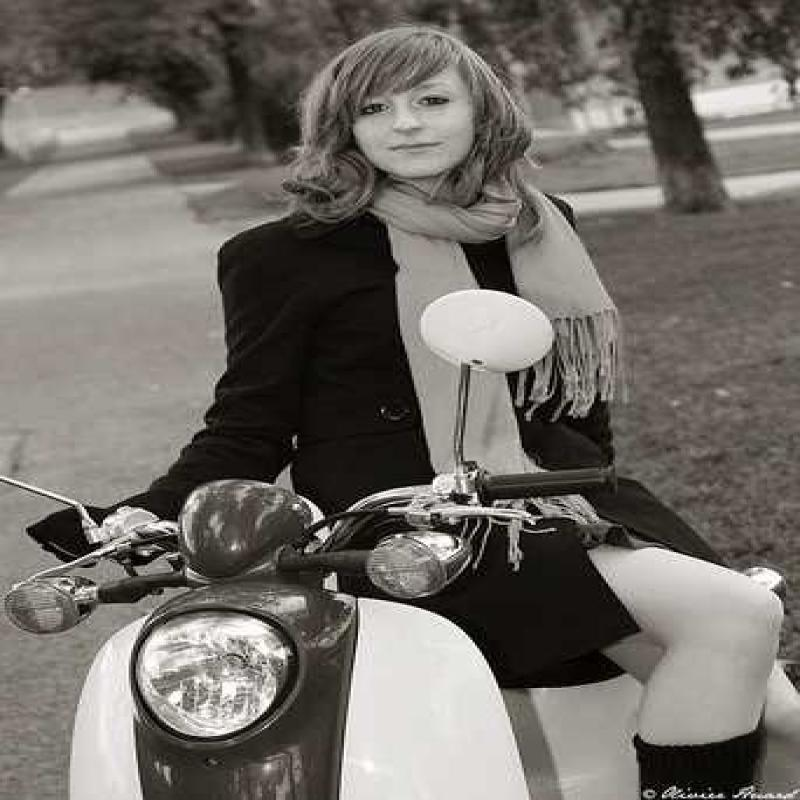bike: (0, 413, 652, 800)
